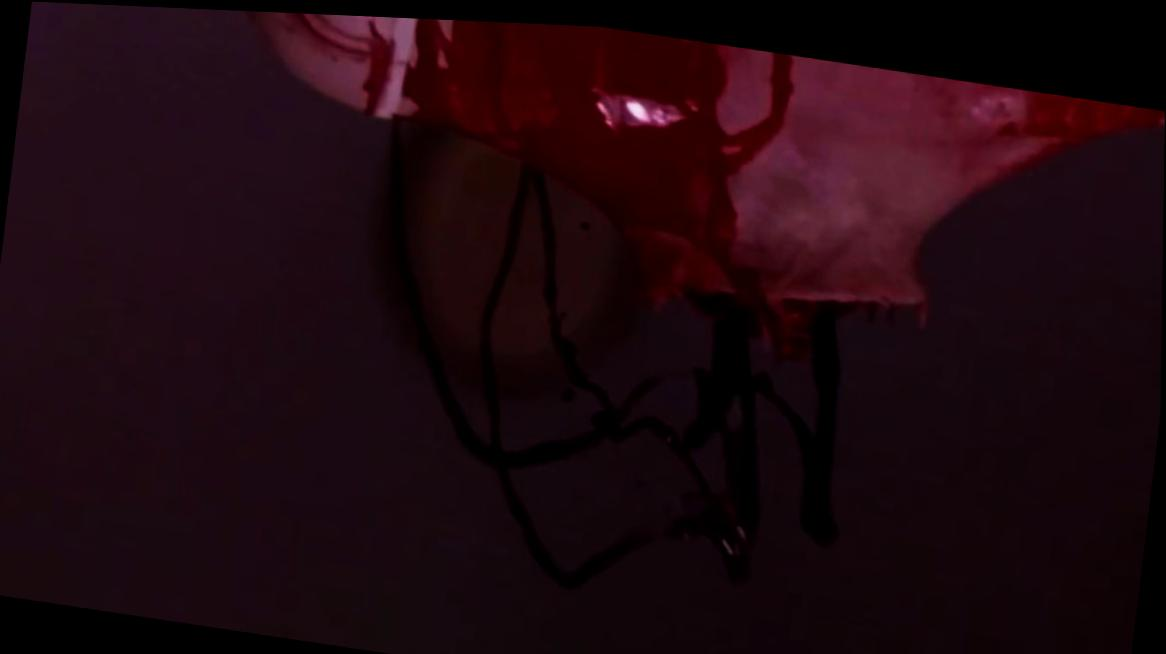Fire: (246, 9, 1165, 575)
